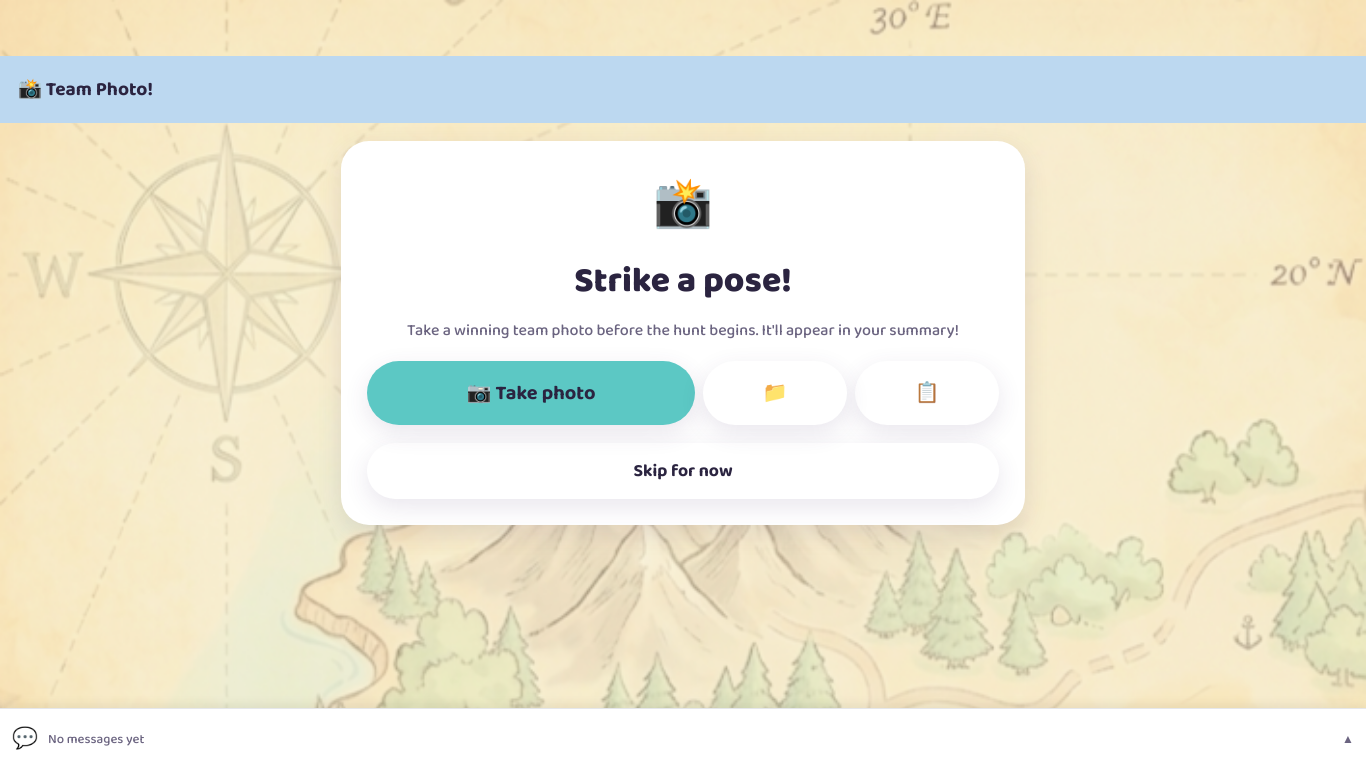
TeamHuntPlayer – team photo warm-up › proceeds to the hunt after skipping the team photo
The image size is (1366, 768).
Step 1. Click the button "Skip for now" → [683, 471], box [367, 443, 999, 499]
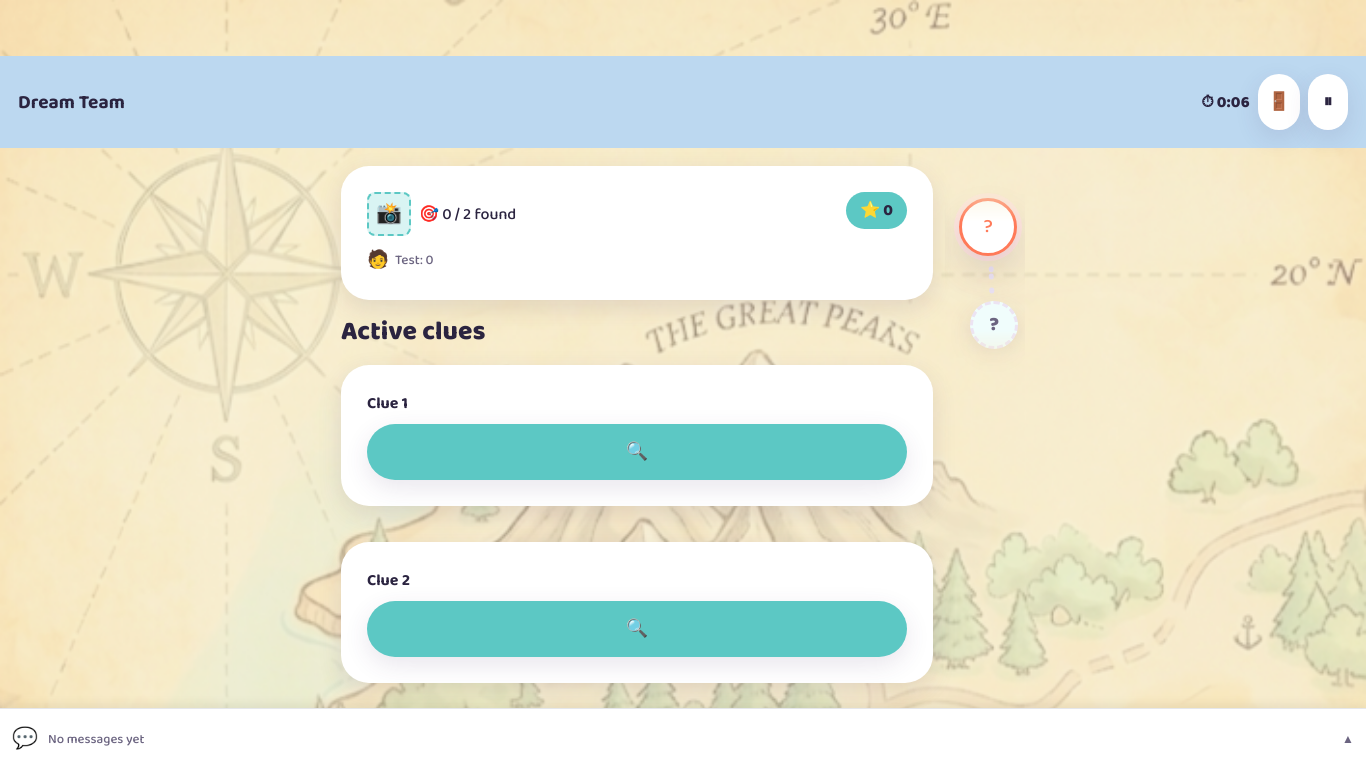
Now the text "Dream Team" is shown, box [18, 86, 125, 118]
